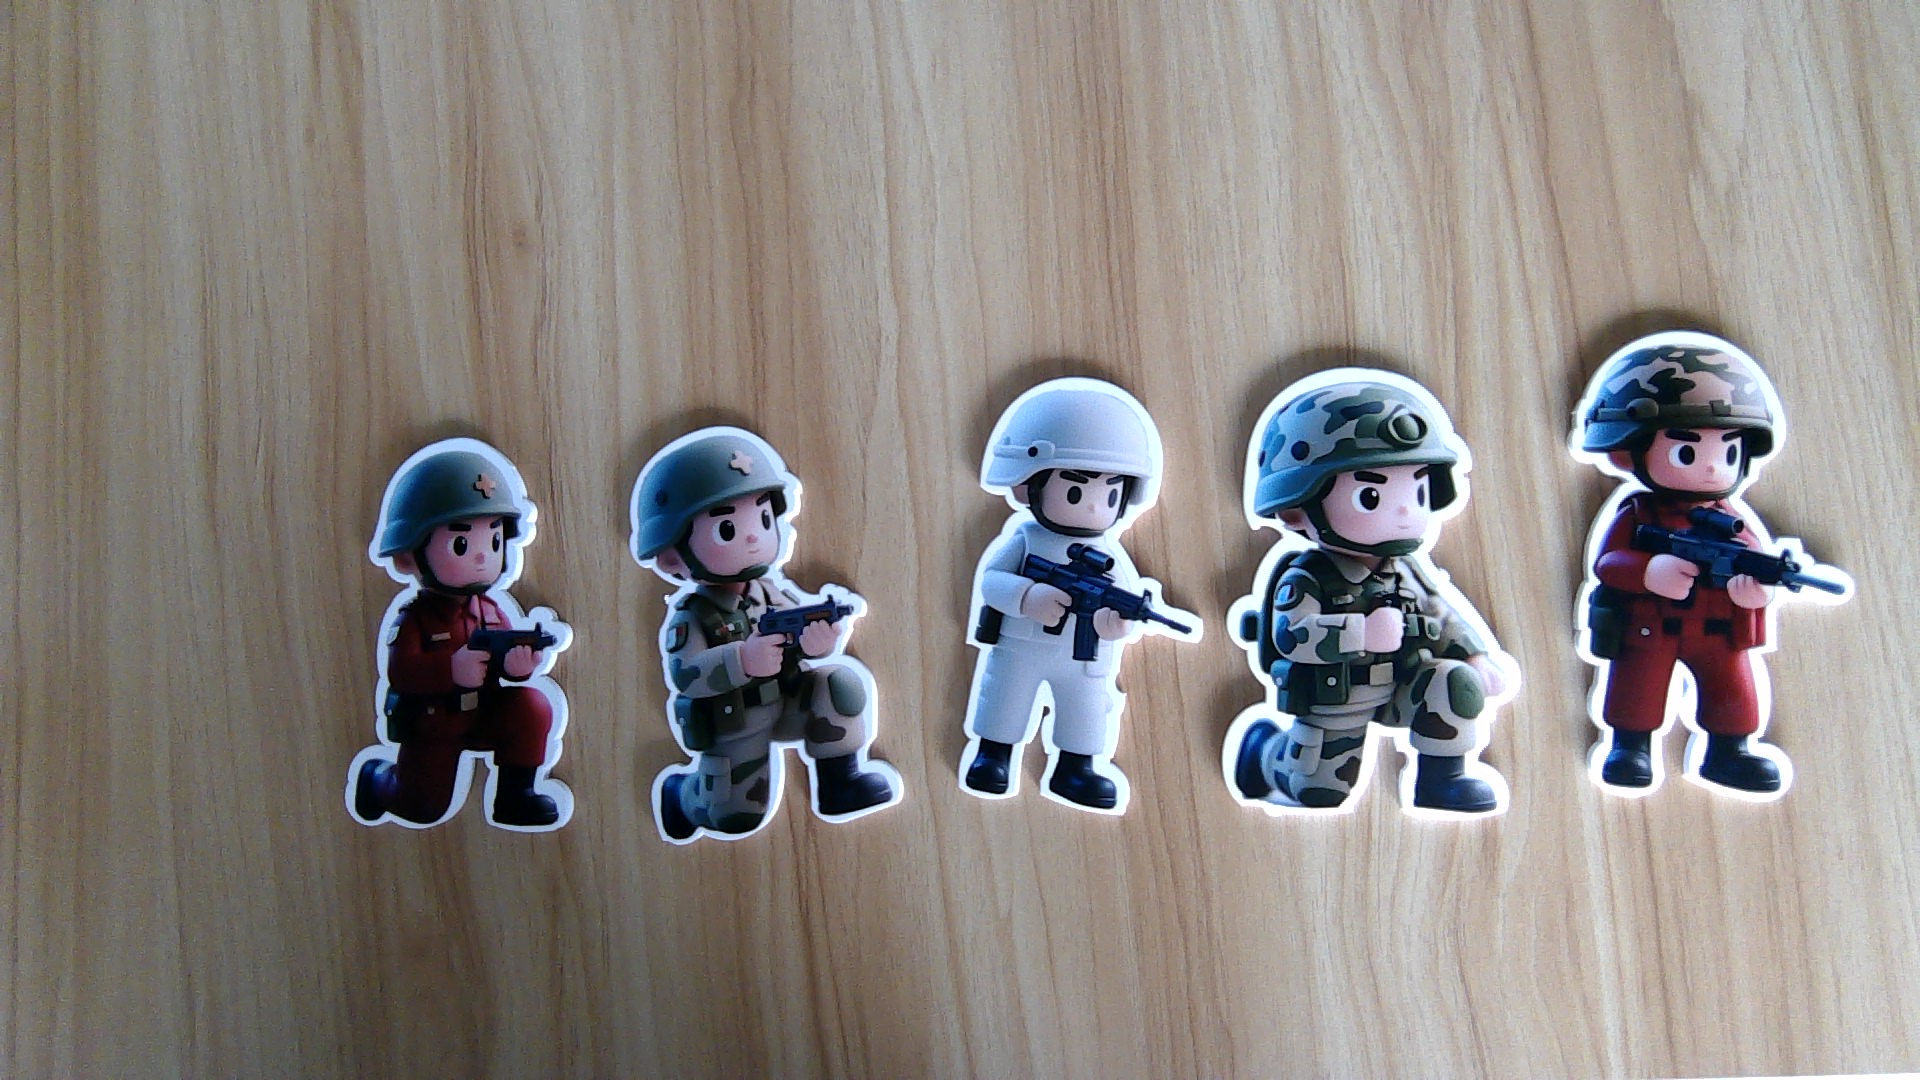人质: (949, 527, 1175, 816)
友军: (1215, 558, 1526, 819), (636, 588, 909, 840)
敌人1: (1563, 501, 1855, 800), (338, 597, 584, 833)
